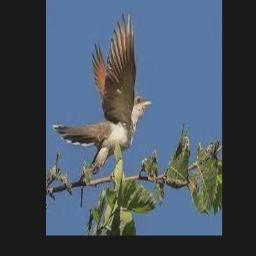Cuckoo: (52, 9, 153, 171)
